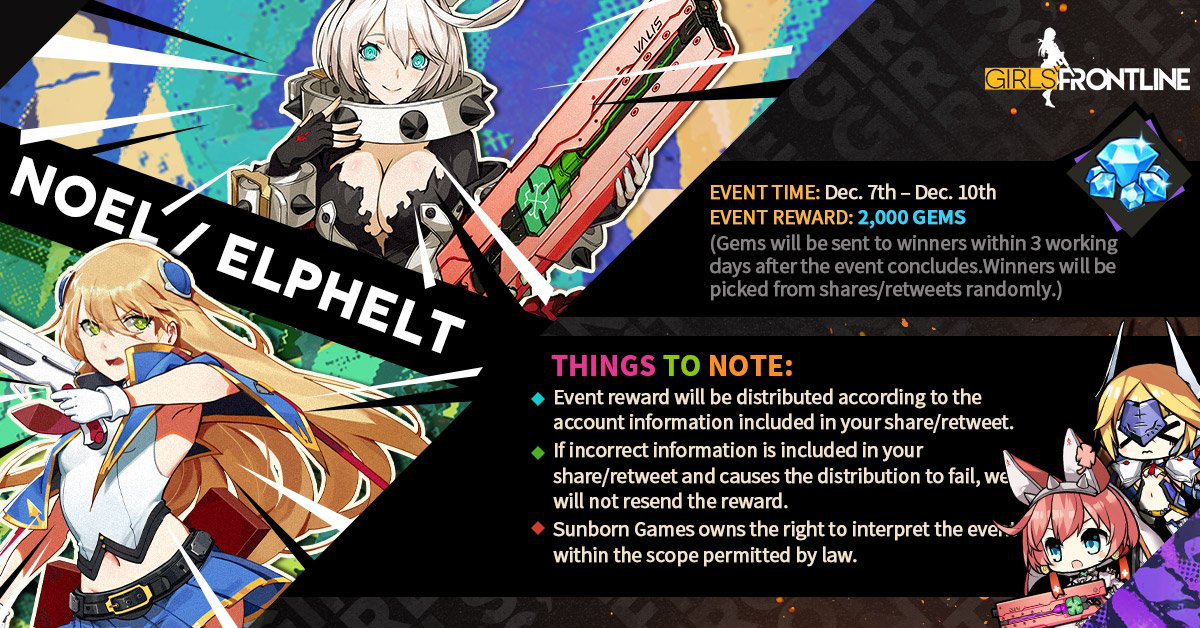latin: (551, 439, 1013, 511), (704, 231, 1123, 306), (551, 517, 1017, 568), (551, 386, 1017, 434), (705, 177, 1001, 228), (548, 352, 797, 378)
